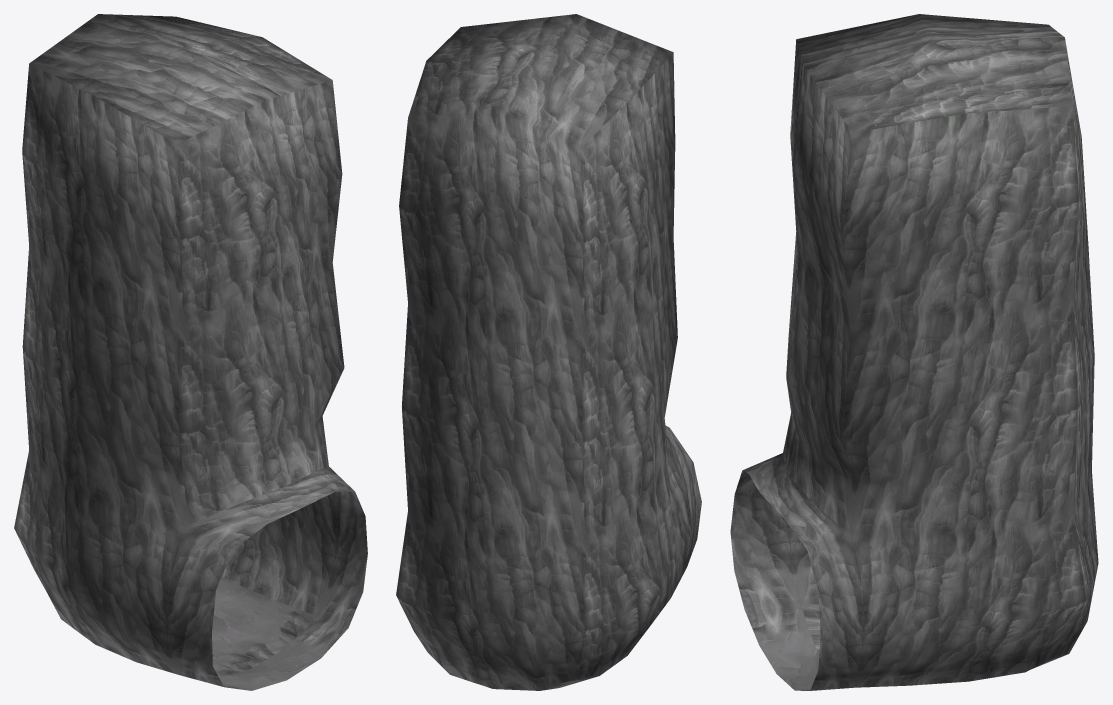
The model's file is SWORDLIGHT20_PS-AREA01_02.fbx.
The picture shows the model from 3 angles, left to right: view 1: azimuth 30°, elevation 25°; view 2: azimuth 150°, elevation 25°; view 3: azimuth 270°, elevation 25°; orthographic projection. The views are drawn at different scales.
Visible parts, largest first — view 1: SWORDLIGHT20_PS-AREA01_02; view 2: SWORDLIGHT20_PS-AREA01_02; view 3: SWORDLIGHT20_PS-AREA01_02.
Boxes of the visible parts, x1,y1,x2,y2 form: SWORDLIGHT20_PS-AREA01_02: (14,14,367,690); SWORDLIGHT20_PS-AREA01_02: (396,14,701,690); SWORDLIGHT20_PS-AREA01_02: (730,14,1098,690).
Bounding box in the file's own units: 99262 × 225363 × 119970.
Materials: 3 (3 with a texture image).
